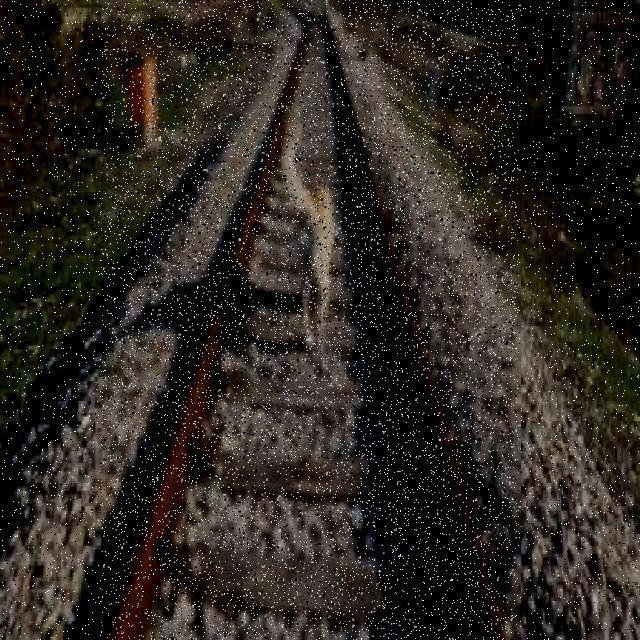danger: (268, 98, 357, 408)
rail: (101, 0, 519, 640)
